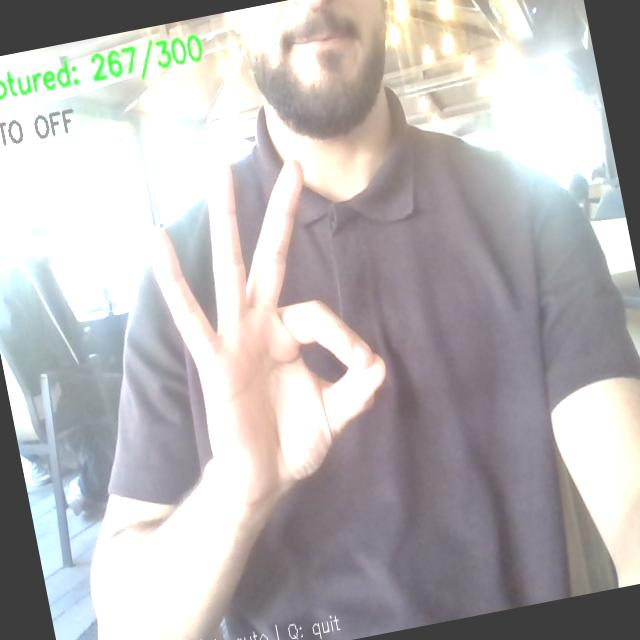Hand: (151, 161, 385, 507)
